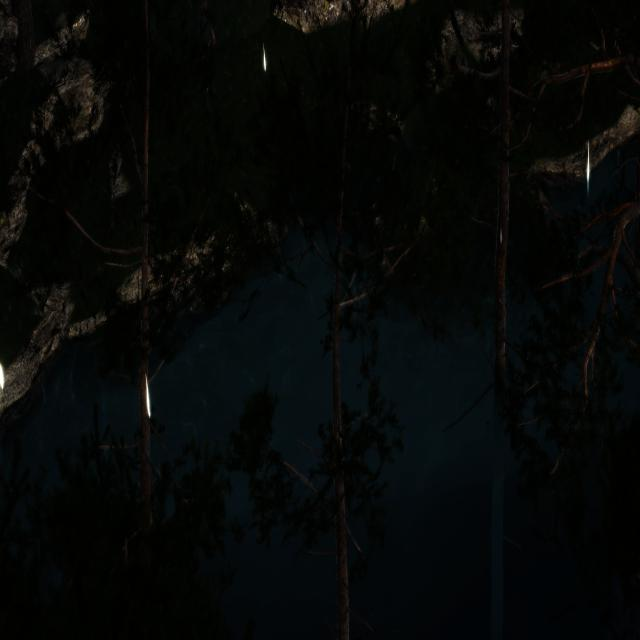Human: (202, 0, 217, 95)
